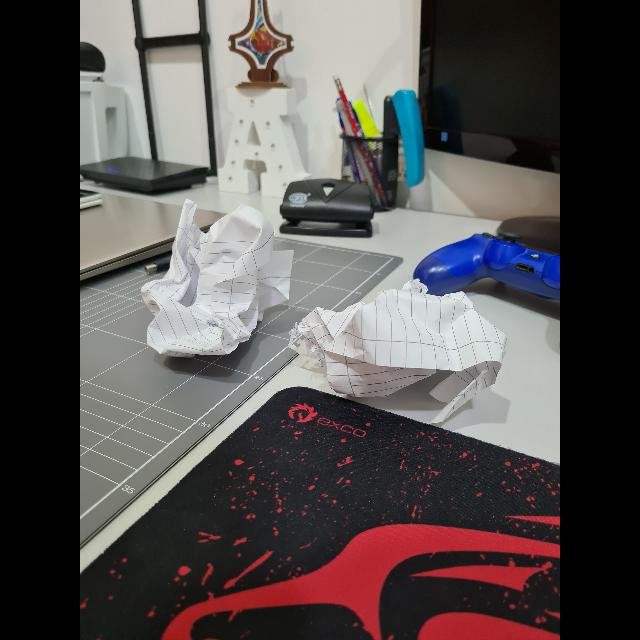scrap_paper: (289, 292, 499, 403), (143, 199, 279, 365)
